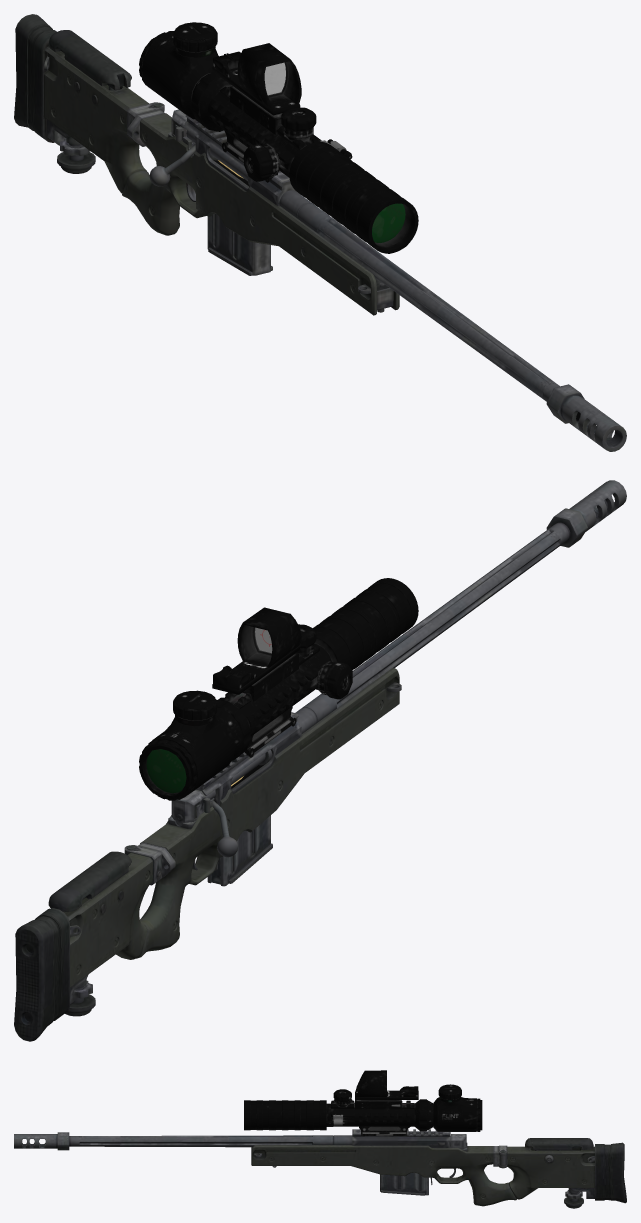
Rendered from awp-glb.glb.
3 renders of one model, top to bottom at view 1: azimuth 30°, elevation 25°; view 2: azimuth 150°, elevation 25°; view 3: azimuth 270°, elevation 25°, orthographic. The views are drawn at different scales.
Visible parts, largest first — view 1: body~0, body~1, mag~0, glass~1, bolt~0; view 2: body~0, body~1, mag~0, glass~1, bolt~0, shroud~0; view 3: body~0, body~1, mag~0, shroud~0.
Part boxes in pixels (bbox=[...]): body~0: bbox=[14, 14, 626, 451]; body~1: bbox=[139, 22, 418, 253]; mag~0: bbox=[207, 213, 272, 275]; glass~1: bbox=[372, 203, 405, 242]; bolt~0: bbox=[149, 130, 249, 186]; body~0: bbox=[14, 480, 626, 1041]; body~1: bbox=[139, 578, 418, 800]; mag~0: bbox=[207, 815, 272, 886]; glass~1: bbox=[146, 749, 186, 793]; bolt~0: bbox=[205, 749, 272, 857]; shroud~0: bbox=[171, 789, 210, 825]; body~0: bbox=[14, 1129, 626, 1208]; body~1: bbox=[244, 1070, 482, 1135]; mag~0: bbox=[380, 1172, 428, 1195]; shroud~0: bbox=[451, 1134, 467, 1149].
Bounding box in the file's own units: 0.1447 × 0.3985 × 1.68.
Materials: 4 (4 with a texture image).
